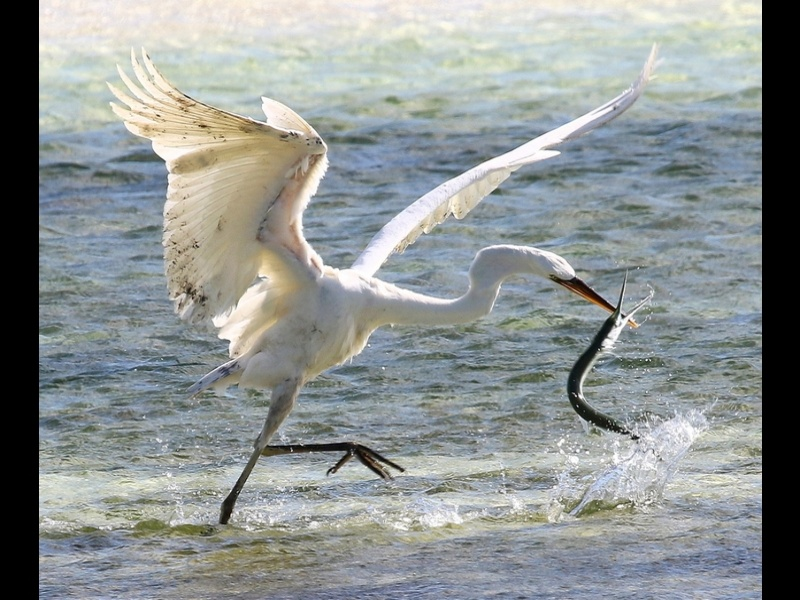heron: (107, 41, 667, 536)
